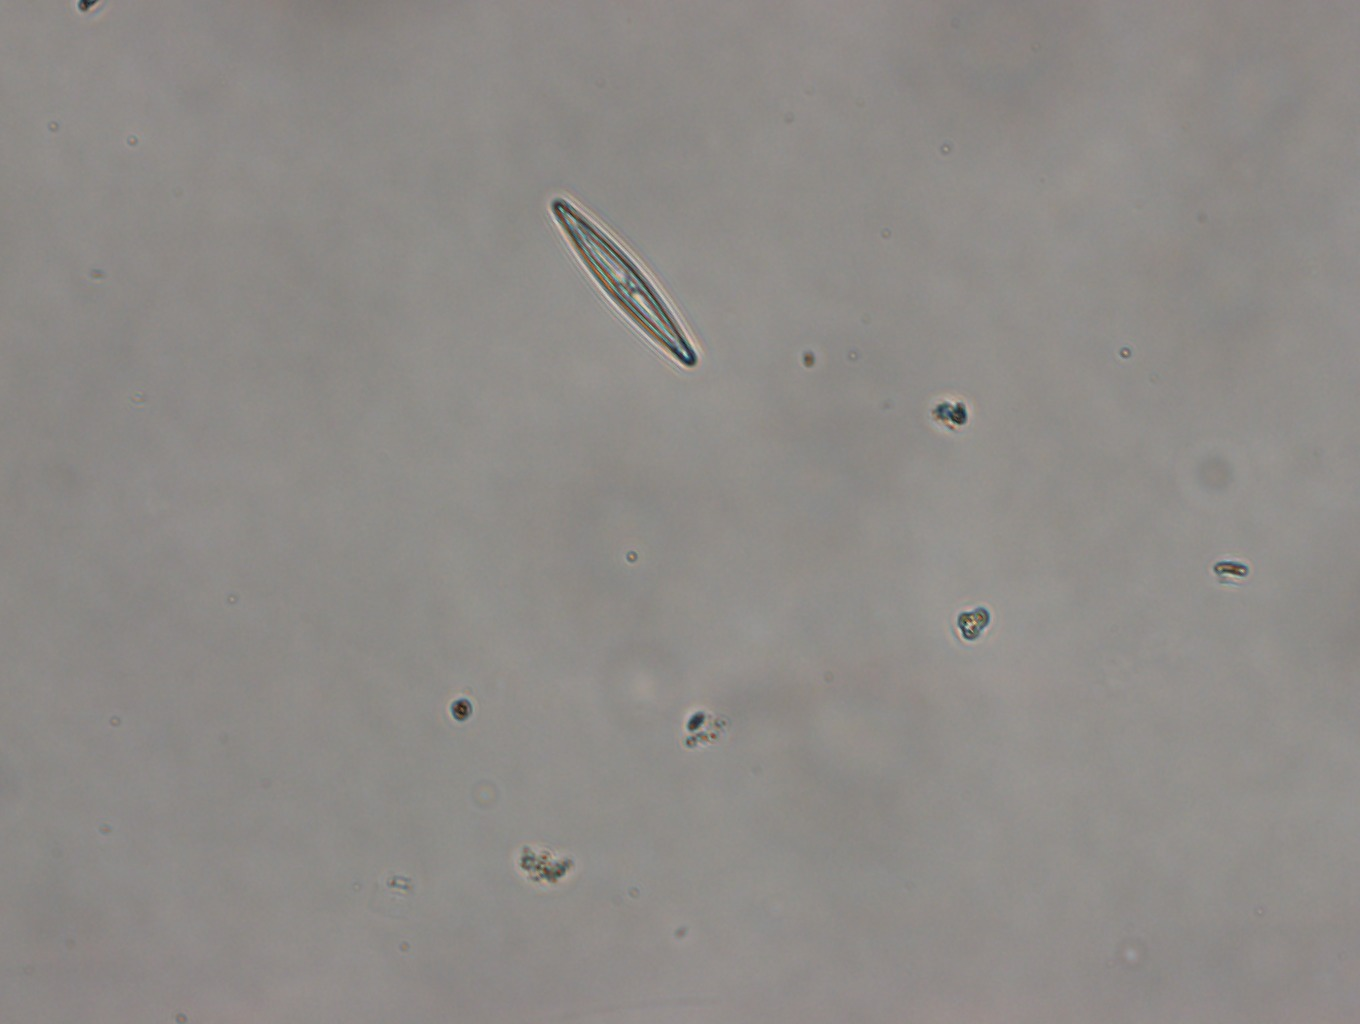navicula: (546, 194, 697, 374)
